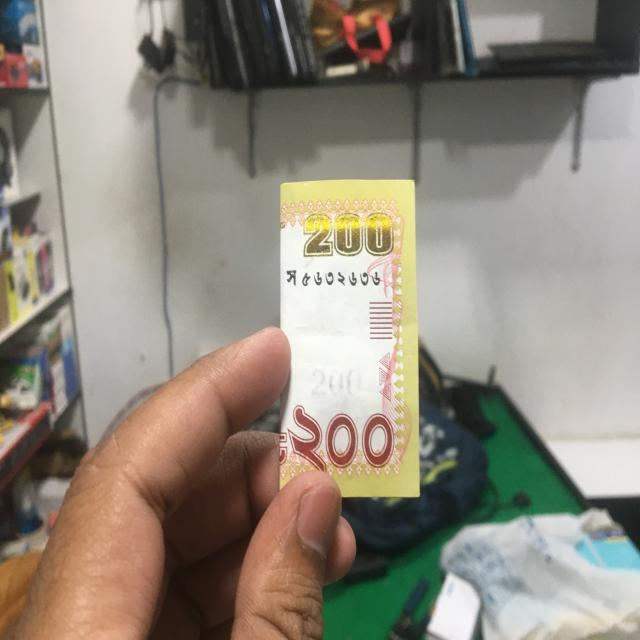Taka: (281, 181, 417, 492)
